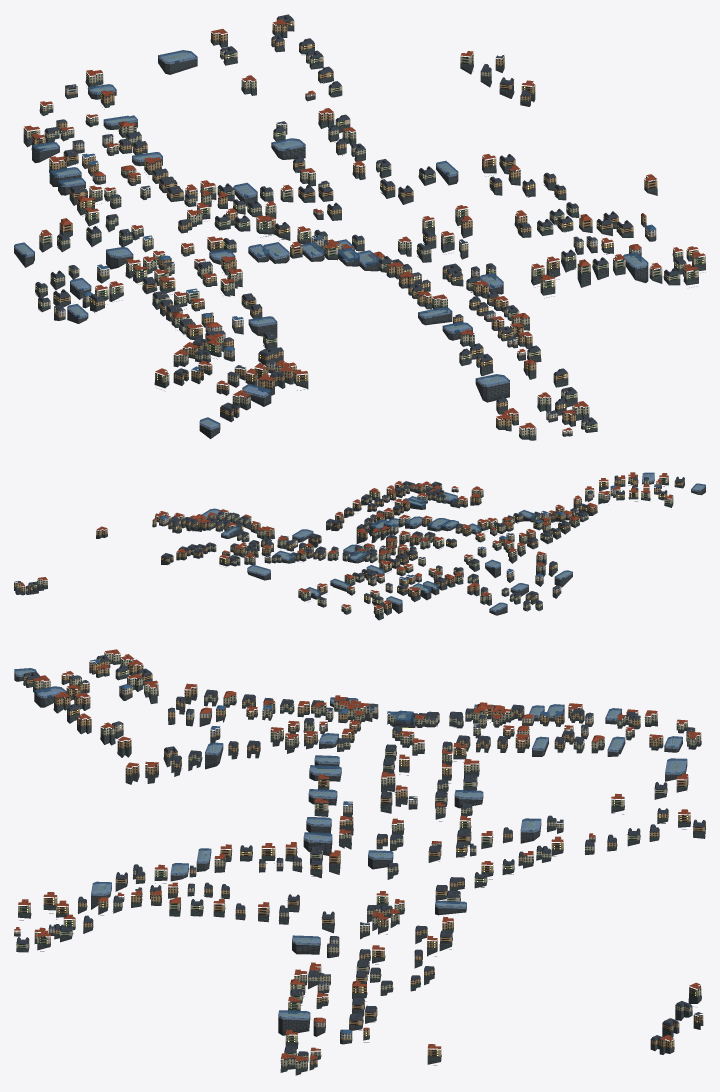
Rendered from osm_buildings_T_W02_S01_Q3.glb.
3 views of the same model, one above another, from view 1: azimuth 30°, elevation 25°; view 2: azimuth 150°, elevation 25°; view 3: azimuth 270°, elevation 25° (orthographic). The views are drawn at different scales.
Parts seen in each view (by area): view 1: OSM_T_W02_S01_Q3_foundation, OSM_T_W02_S01_Q3_wall_cream_stucco, OSM_T_W02_S01_Q3_wall_french_ochre, OSM_T_W02_S01_Q3_greenhouse_blend, OSM_T_W02_S01_Q3_roof_mansard_slate, OSM_T_W02_S01_Q3_roof_terracotta, OSM_T_W02_S01_Q3_roof_mansard_deck, OSM_T_W02_S01_Q3_roof_mint_metal, OSM_T_W02_S01_Q3_trim_cornice, OSM_T_W02_S01_Q3_balcony_railing, OSM_T_W02_S01_Q3_window_emissive_warm, OSM_T_W02_S01_Q3_wall_warm_white (+1 smaller); view 2: OSM_T_W02_S01_Q3_foundation, OSM_T_W02_S01_Q3_wall_french_ochre, OSM_T_W02_S01_Q3_wall_cream_stucco, OSM_T_W02_S01_Q3_roof_terracotta, OSM_T_W02_S01_Q3_greenhouse_blend, OSM_T_W02_S01_Q3_roof_mansard_slate, OSM_T_W02_S01_Q3_roof_mansard_deck, OSM_T_W02_S01_Q3_roof_mint_metal, OSM_T_W02_S01_Q3_balcony_railing, OSM_T_W02_S01_Q3_window_emissive_warm, OSM_T_W02_S01_Q3_wall_warm_white, OSM_T_W02_S01_Q3_wall_pastel_sand (+1 smaller); view 3: OSM_T_W02_S01_Q3_foundation, OSM_T_W02_S01_Q3_wall_french_ochre, OSM_T_W02_S01_Q3_wall_cream_stucco, OSM_T_W02_S01_Q3_roof_terracotta, OSM_T_W02_S01_Q3_roof_mansard_slate, OSM_T_W02_S01_Q3_greenhouse_blend, OSM_T_W02_S01_Q3_roof_mansard_deck, OSM_T_W02_S01_Q3_roof_mint_metal, OSM_T_W02_S01_Q3_trim_cornice, OSM_T_W02_S01_Q3_balcony_railing, OSM_T_W02_S01_Q3_window_emissive_warm, OSM_T_W02_S01_Q3_wall_warm_white.
Boxes of the visible parts, x1,y1,x2,y2 form: OSM_T_W02_S01_Q3_foundation: (14,24,705,440); OSM_T_W02_S01_Q3_wall_cream_stucco: (23,50,705,436); OSM_T_W02_S01_Q3_wall_french_ochre: (32,18,698,427); OSM_T_W02_S01_Q3_greenhouse_blend: (14,50,647,430); OSM_T_W02_S01_Q3_roof_mansard_slate: (35,16,686,425); OSM_T_W02_S01_Q3_roof_terracotta: (24,19,705,430); OSM_T_W02_S01_Q3_roof_mansard_deck: (15,14,684,428); OSM_T_W02_S01_Q3_roof_mint_metal: (24,24,705,438); OSM_T_W02_S01_Q3_trim_cornice: (24,20,705,433); OSM_T_W02_S01_Q3_balcony_railing: (29,23,704,428); OSM_T_W02_S01_Q3_window_emissive_warm: (19,44,703,427); OSM_T_W02_S01_Q3_wall_warm_white: (54,92,641,418); OSM_T_W02_S01_Q3_foundation: (14,476,705,620); OSM_T_W02_S01_Q3_wall_french_ochre: (14,476,684,610); OSM_T_W02_S01_Q3_wall_cream_stucco: (33,475,673,614); OSM_T_W02_S01_Q3_roof_terracotta: (19,472,672,609); OSM_T_W02_S01_Q3_greenhouse_blend: (201,472,705,611); OSM_T_W02_S01_Q3_roof_mansard_slate: (15,476,684,605); OSM_T_W02_S01_Q3_roof_mansard_deck: (27,475,702,611); OSM_T_W02_S01_Q3_roof_mint_metal: (23,481,683,618); OSM_T_W02_S01_Q3_balcony_railing: (24,478,672,614); OSM_T_W02_S01_Q3_window_emissive_warm: (36,480,700,609); OSM_T_W02_S01_Q3_wall_warm_white: (218,487,592,593); OSM_T_W02_S01_Q3_wall_pastel_sand: (159,488,615,604); OSM_T_W02_S01_Q3_foundation: (14,660,705,1075); OSM_T_W02_S01_Q3_wall_french_ochre: (23,658,705,1065); OSM_T_W02_S01_Q3_wall_cream_stucco: (16,652,701,1069); OSM_T_W02_S01_Q3_roof_terracotta: (14,649,701,1061); OSM_T_W02_S01_Q3_roof_mansard_slate: (16,656,705,1056); OSM_T_W02_S01_Q3_greenhouse_blend: (14,668,687,1020); OSM_T_W02_S01_Q3_roof_mansard_deck: (18,655,704,1053); OSM_T_W02_S01_Q3_roof_mint_metal: (16,660,704,1071); OSM_T_W02_S01_Q3_trim_cornice: (16,654,704,1066); OSM_T_W02_S01_Q3_balcony_railing: (16,653,697,1062); OSM_T_W02_S01_Q3_window_emissive_warm: (20,671,695,1053); OSM_T_W02_S01_Q3_wall_warm_white: (48,705,595,1027).
Bounding box in the file's own units: 986 × 243 × 911.
16 materials, 16 textured.
